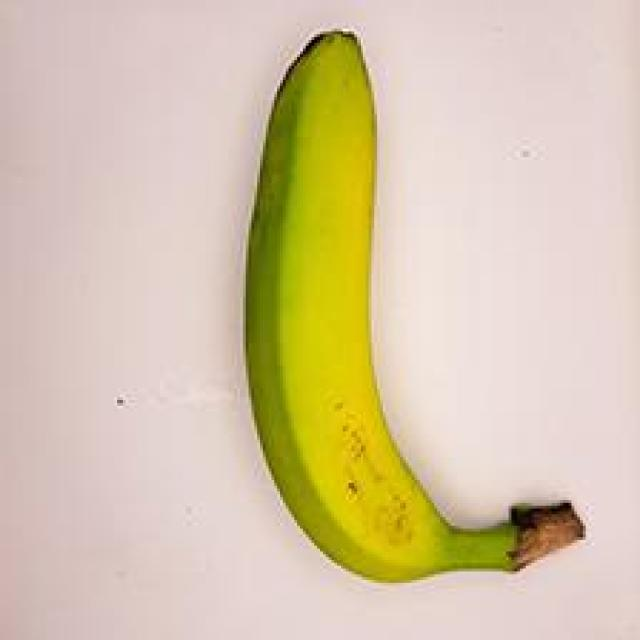unripe: (204, 0, 605, 597)
